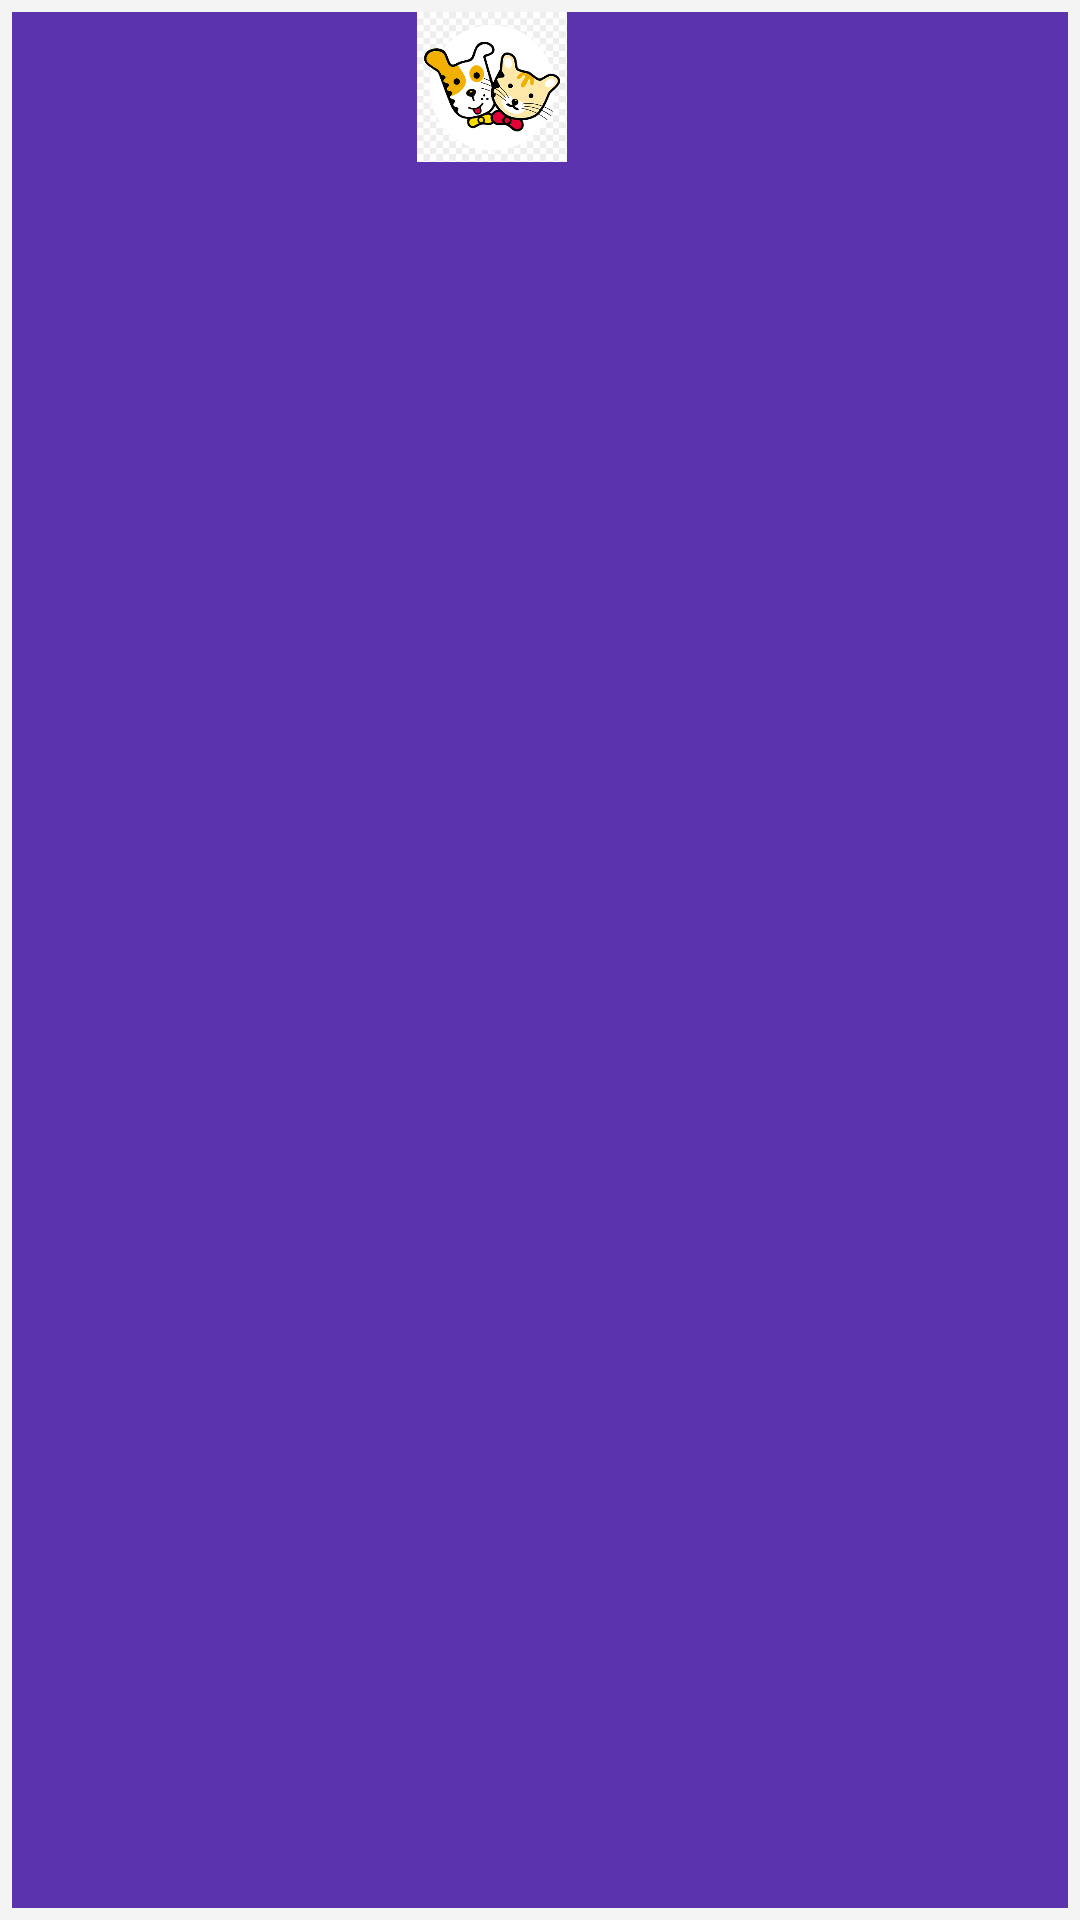

Where to tap for icons on this 1080 × 1920 app screen, as [x,y]:
imagem de um gato e um cachorro: [492,87]
